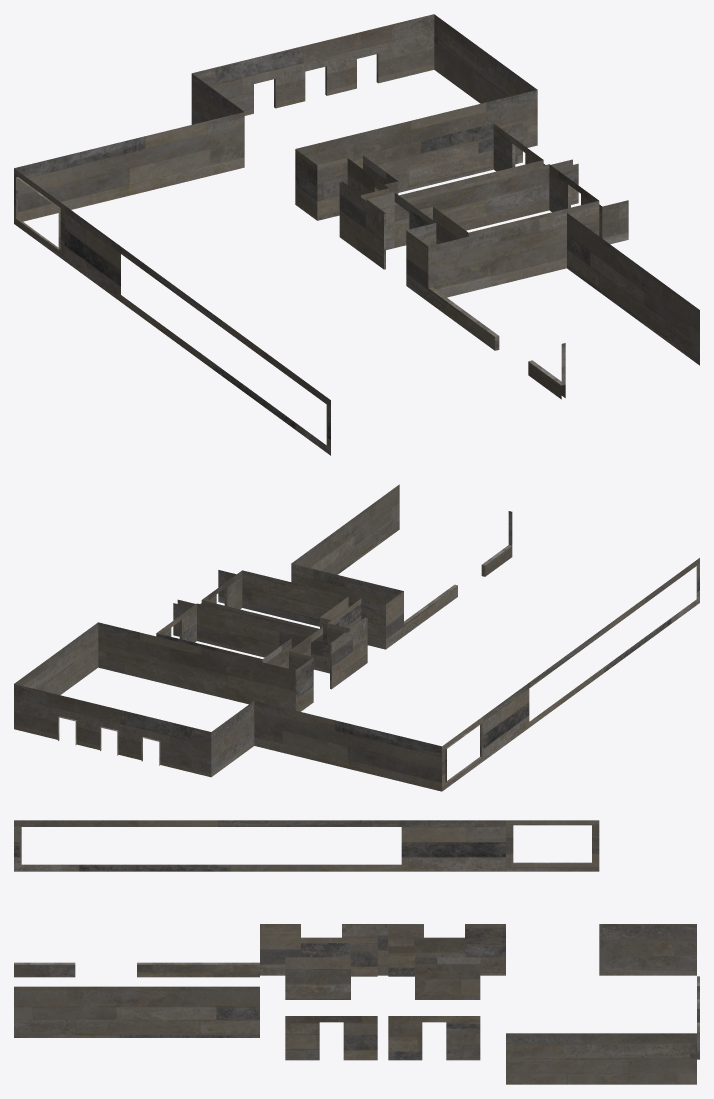
Rendered from Gym_Walls.fbx.
3 renders of one model, top to bottom at view 1: azimuth 30°, elevation 25°; view 2: azimuth 150°, elevation 25°; view 3: azimuth 270°, elevation 25°, orthographic. The views are drawn at different scales.
Parts seen in each view (by area): view 1: Plane.134, Plane.128, Plane.106, Plane.068, Plane.075, Plane.057, Plane.085, Plane.092, Plane.077, Plane.067, Plane.079, Plane.129 (+10 smaller); view 2: Plane.128, Plane.134, Plane.106, Plane.057, Plane.075, Plane.084, Plane.091, Plane.068, Plane.129, Plane.077, Plane.067, Plane.078 (+6 smaller); view 3: Plane.075, Plane.057, Plane.128, Plane.129, Plane.087, Plane.088, Plane.107, Plane.066, Plane.067, Plane.073, Plane.116, Plane.115 (+10 smaller).
Part boxes in pixels (left/top/right/bottom): Plane.134: left=14, top=112, right=244, bottom=221; Plane.128: left=295, top=14, right=537, bottom=168; Plane.106: left=192, top=14, right=434, bottom=115; Plane.068: left=428, top=212, right=566, bottom=297; Plane.075: left=567, top=213, right=699, bottom=365; Plane.057: left=64, top=205, right=330, bottom=455; Plane.085: left=394, top=164, right=549, bottom=247; Plane.092: left=363, top=123, right=493, bottom=192; Plane.077: left=339, top=182, right=383, bottom=269; Plane.067: left=406, top=230, right=494, bottom=350; Plane.079: left=317, top=158, right=347, bottom=220; Plane.129: left=191, top=73, right=243, bottom=124; Plane.128: left=14, top=622, right=295, bottom=710; Plane.134: left=254, top=700, right=441, bottom=791; Plane.106: left=14, top=684, right=211, bottom=777; Plane.057: left=483, top=558, right=699, bottom=760; Plane.075: left=291, top=484, right=399, bottom=574; Plane.084: left=197, top=603, right=322, bottom=671; Plane.091: left=242, top=570, right=348, bottom=626; Plane.068: left=291, top=563, right=403, bottom=607; Plane.129: left=211, top=701, right=254, bottom=776; Plane.077: left=331, top=618, right=367, bottom=688; Plane.067: left=386, top=586, right=457, bottom=649; Plane.078: left=361, top=598, right=385, bottom=649; Plane.075: left=14, top=986, right=259, bottom=1037; Plane.057: left=14, top=820, right=505, bottom=871; Plane.128: left=506, top=1033, right=696, bottom=1084; Plane.129: left=599, top=924, right=696, bottom=975; Plane.087: left=415, top=957, right=480, bottom=999; Plane.088: left=285, top=957, right=350, bottom=999; Plane.107: left=506, top=820, right=599, bottom=871; Plane.066: left=465, top=924, right=505, bottom=975; Plane.067: left=260, top=924, right=300, bottom=975; Plane.073: left=137, top=964, right=259, bottom=977; Plane.116: left=285, top=1023, right=319, bottom=1060; Plane.115: left=343, top=1023, right=377, bottom=1060.
Bounding box in the file's own units: 3621 × 4903 × 405.
